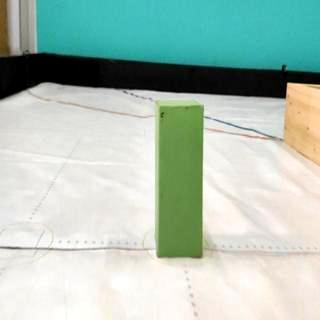greenbox: (152, 100, 207, 260)
